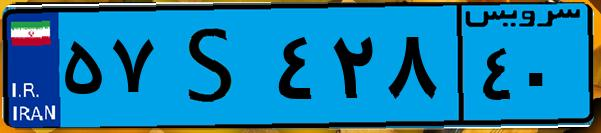0: (525, 38, 570, 115)
2: (330, 28, 385, 110)
4: (270, 28, 330, 110), (475, 38, 525, 113)
5: (57, 26, 110, 100)
7: (110, 28, 158, 98)
8: (385, 28, 445, 110)
S: (158, 12, 270, 120)
